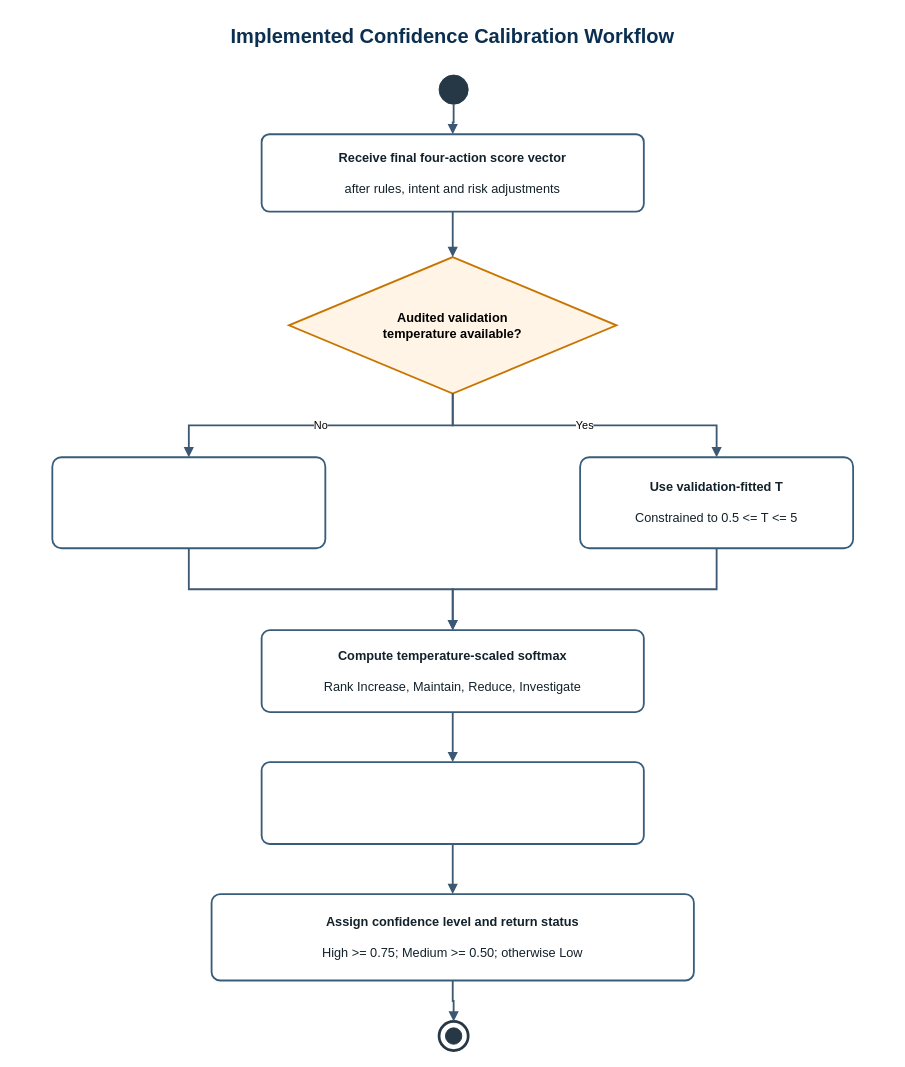
Some shapes in this 905 by 1067 pixel diagram are drawn without their labels. Here are the shapes that lost their labels. From the top down, the box of each, then its label:
(51, 456, 326, 549): Use T = 1 Append uncalibrated-evidence caveat
(260, 761, 644, 844): Select highest-ranked action Confidence = selected action probability
